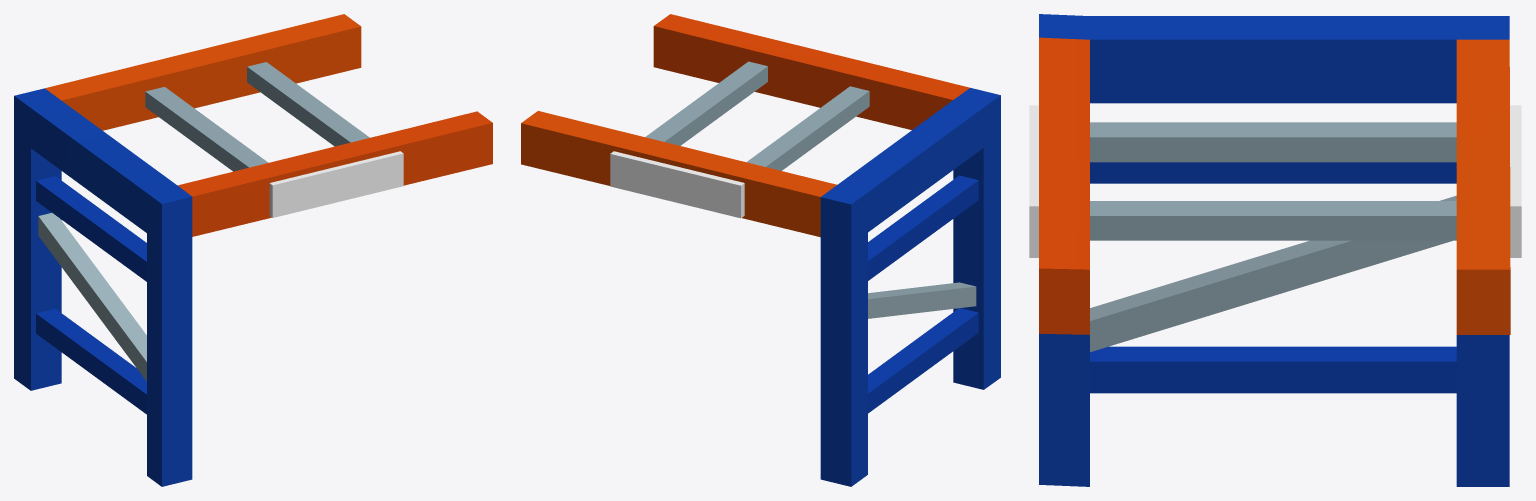
File: Rack-HalfOrange48.fbx
3 views of the same model, side by side, from view 1: azimuth 30°, elevation 25°; view 2: azimuth 150°, elevation 25°; view 3: azimuth 270°, elevation 25° (orthographic). The views are drawn at different scales.
Parts seen in each view (by area): view 1: ProtoRack, LabelFront; view 2: ProtoRack, LabelRear; view 3: ProtoRack, LabelRear, LabelFront.
Part boxes in pixels (left/top/right/bottom): ProtoRack: left=14, top=14, right=492, bottom=486; LabelFront: left=269, top=151, right=403, bottom=217; ProtoRack: left=521, top=14, right=1000, bottom=486; LabelRear: left=610, top=151, right=744, bottom=218; ProtoRack: left=1039, top=14, right=1510, bottom=486; LabelRear: left=1510, top=105, right=1521, bottom=257; LabelFront: left=1029, top=105, right=1038, bottom=257.
Bounding box in the file's own units: 1.49 × 1.21 × 1.22.
